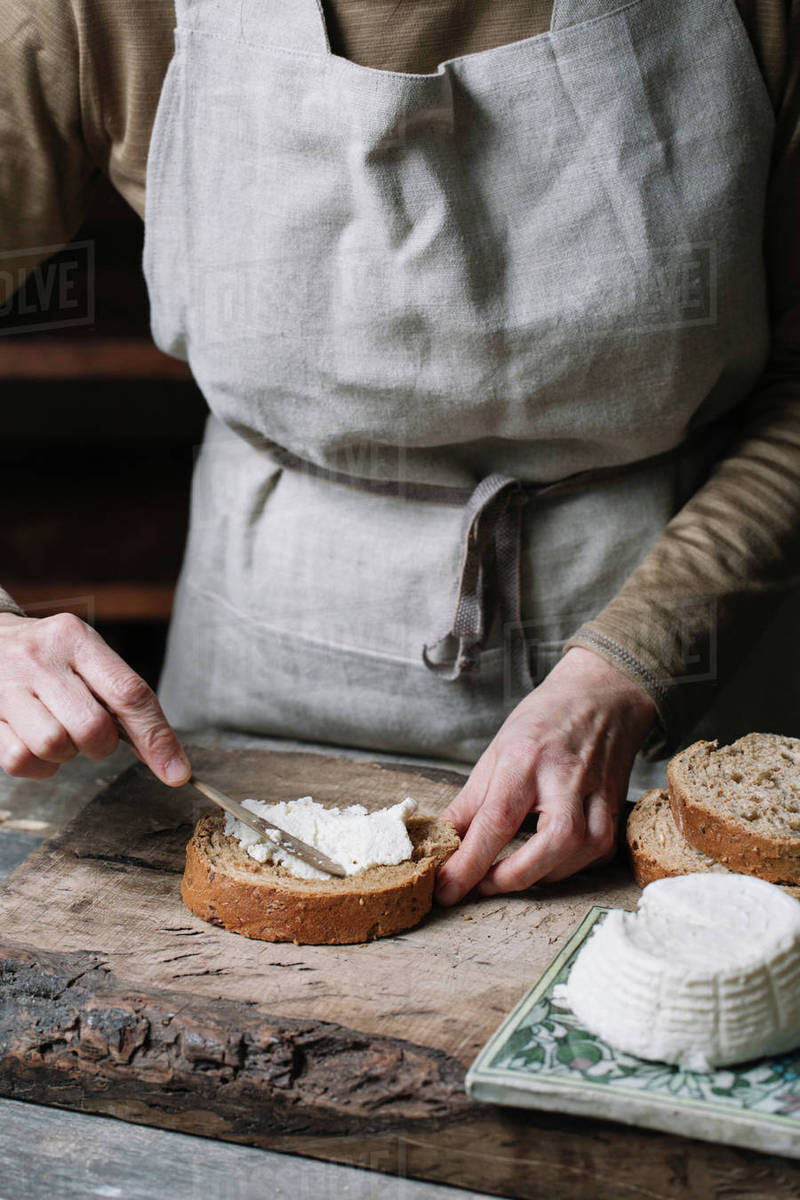slice of bread: (184, 814, 454, 940)
